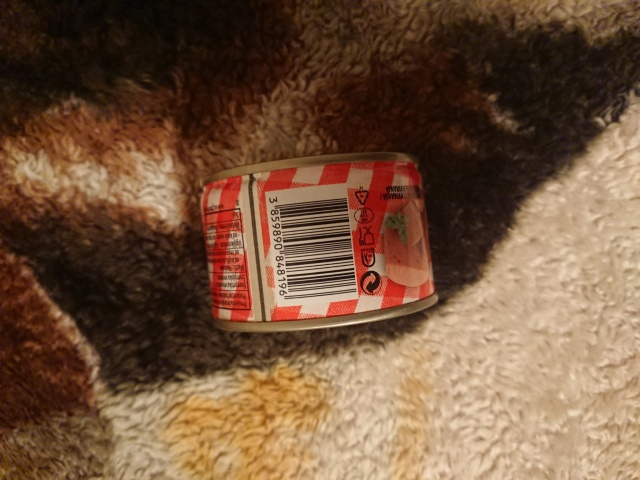Podravka Luncheon Meat 150g: (196, 146, 443, 335)
